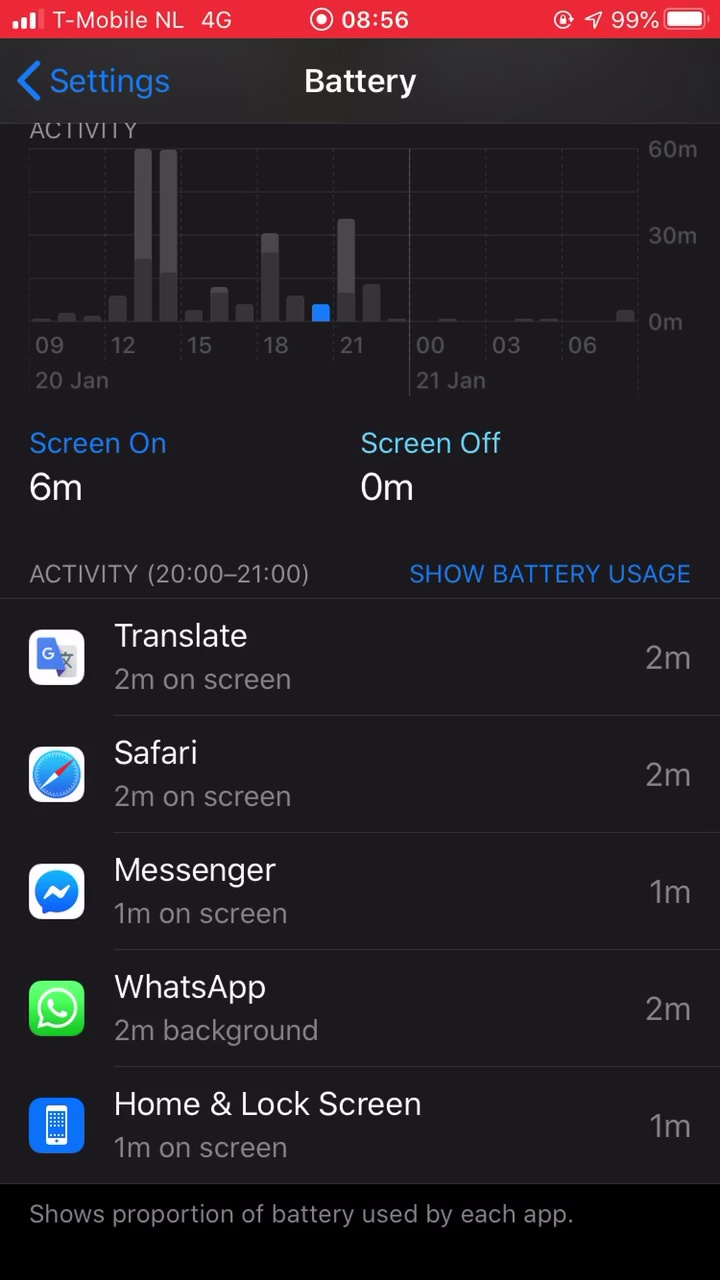activity: (20, 554, 313, 595)
app: (20, 609, 705, 703), (14, 730, 699, 824), (14, 849, 699, 943), (14, 966, 699, 1060), (14, 1074, 699, 1168)
